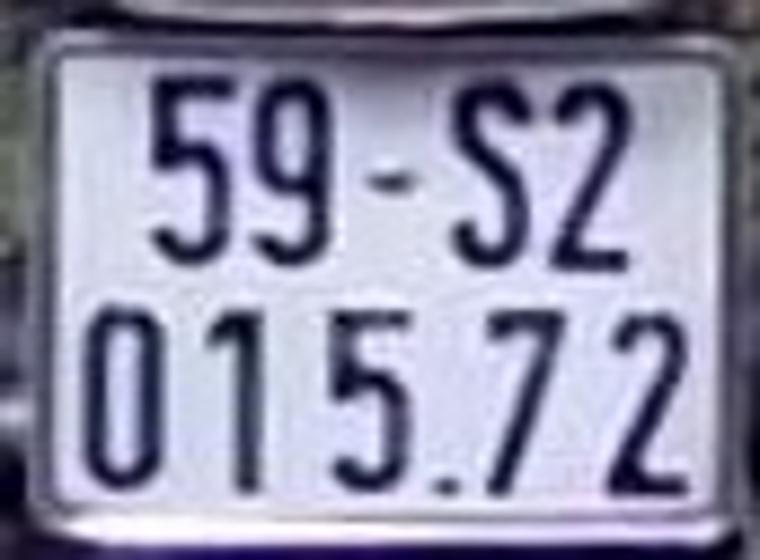-: (368, 171, 404, 190)
.: (436, 477, 457, 496)
0: (84, 307, 161, 490)
1: (202, 306, 261, 492)
2: (607, 314, 687, 495), (552, 81, 624, 271)
5: (147, 71, 229, 262), (328, 309, 412, 489)
7: (484, 311, 564, 497)
9: (252, 75, 329, 266)
S: (449, 75, 529, 264)
